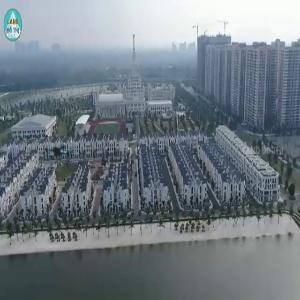drone: (34, 128, 83, 177)
